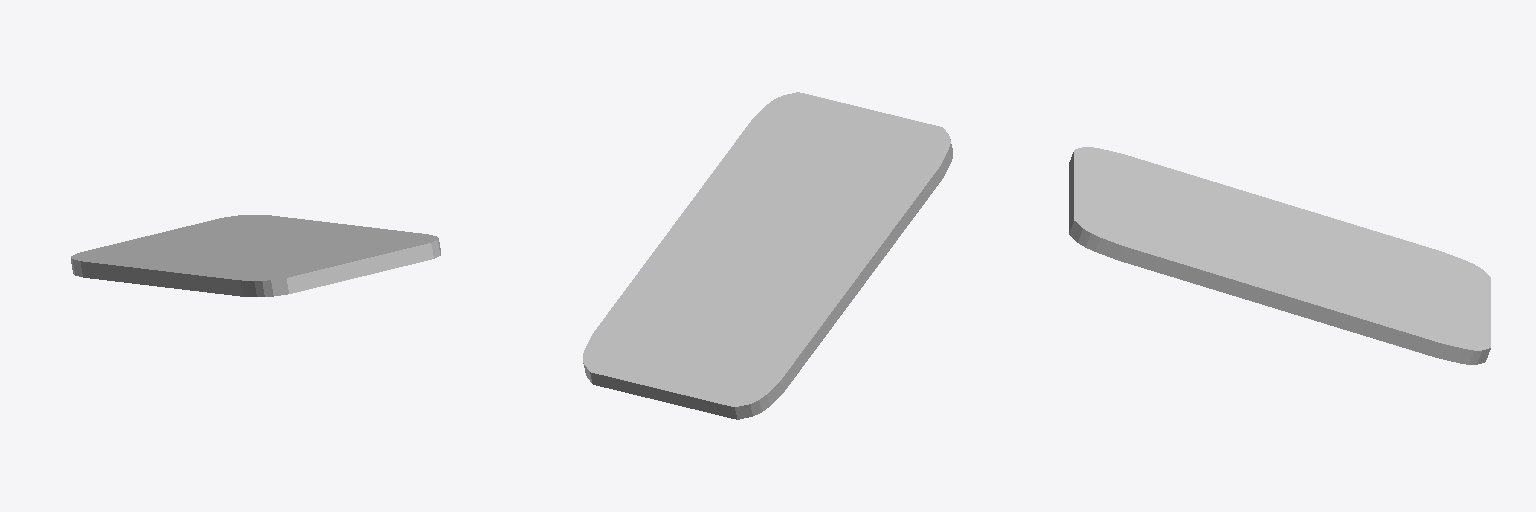
The model's file is solar_2.obj.
The picture shows the model from 3 angles: view 1: azimuth 30°, elevation 25°; view 2: azimuth 150°, elevation 25°; view 3: azimuth 270°, elevation 25°; orthographic projection.
Parts seen in each view (by area): view 1: Plane.008; view 2: Plane.008; view 3: Plane.008.
Boxes of the visible parts, x1,y1,x2,y2 form: Plane.008: [71, 215, 440, 296]; Plane.008: [583, 92, 952, 419]; Plane.008: [1069, 147, 1490, 364].
Size of the model in its own units: 0.2743 by 0.1972 by 0.5316.